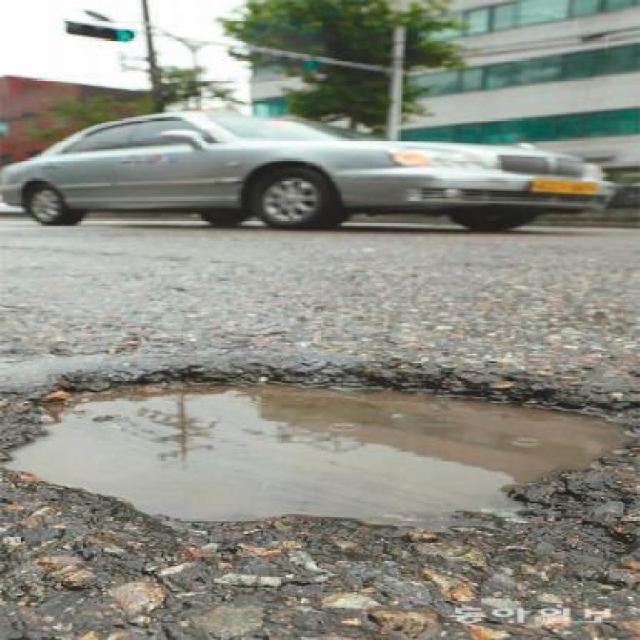Pothole: (0, 359, 638, 532)
